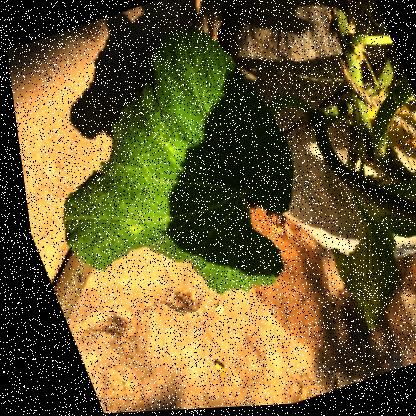Normal: (6, 47, 313, 341)
